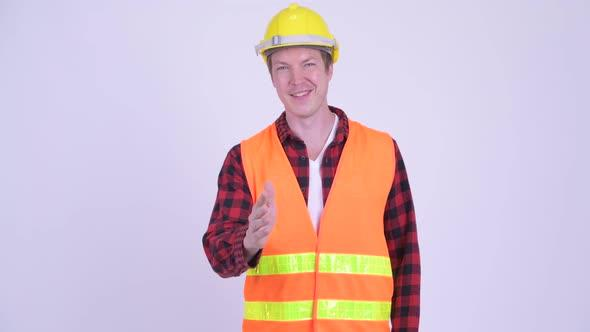helmet: (257, 5, 345, 62)
